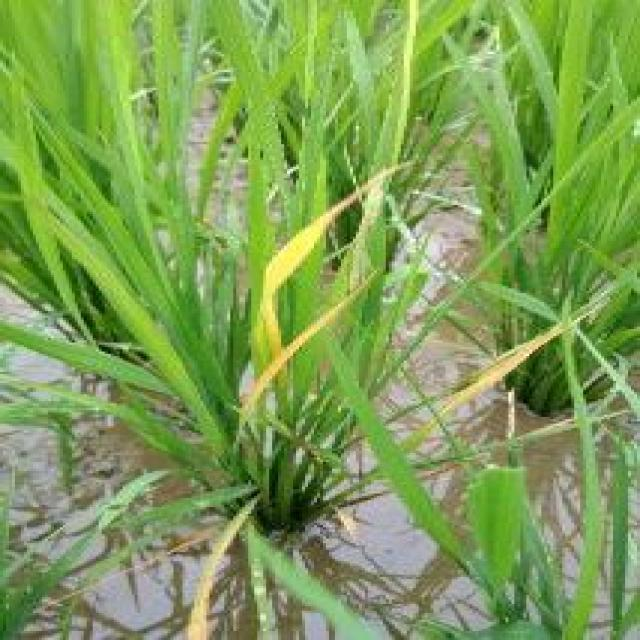Tungro: (236, 162, 406, 370), (380, 304, 590, 430), (164, 479, 288, 640)
